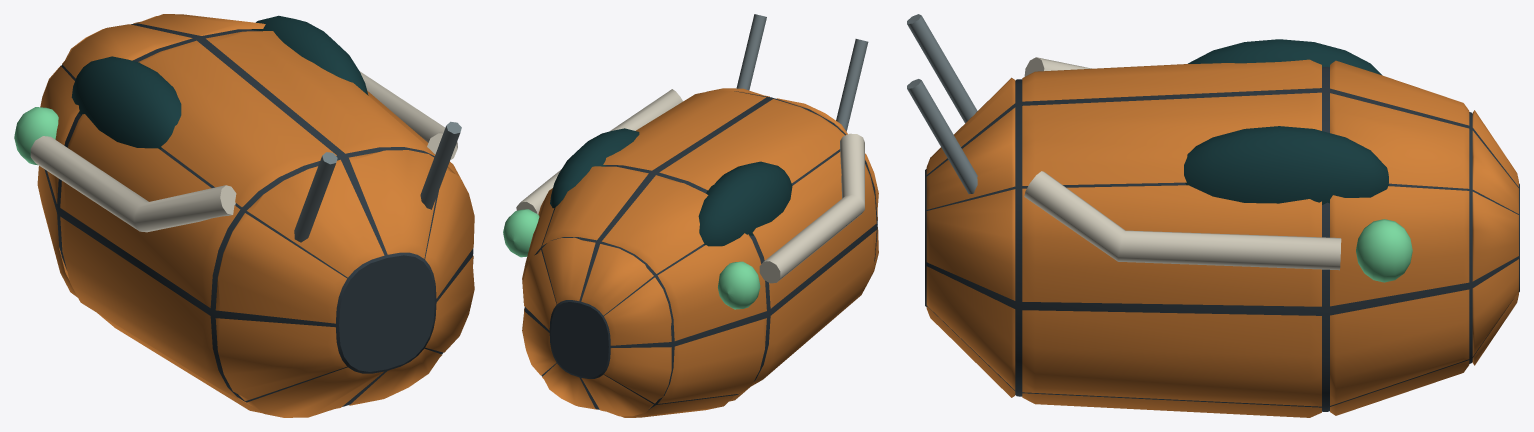
The model's file is survival_pod.glb.
The picture shows the model from 3 angles, left to right: view 1: azimuth 30°, elevation 25°; view 2: azimuth 150°, elevation 25°; view 3: azimuth 270°, elevation 25°; orthographic projection. The views are drawn at different scales.
Visible parts, largest first — view 1: survival_pod; view 2: survival_pod; view 3: survival_pod.
Part boxes in pixels (x1,y1,x2,y2): survival_pod: (14,14,474,417); survival_pod: (503,14,878,417); survival_pod: (907,14,1519,417).
Size of the model in its own units: 1.82 by 1.71 by 2.8.
